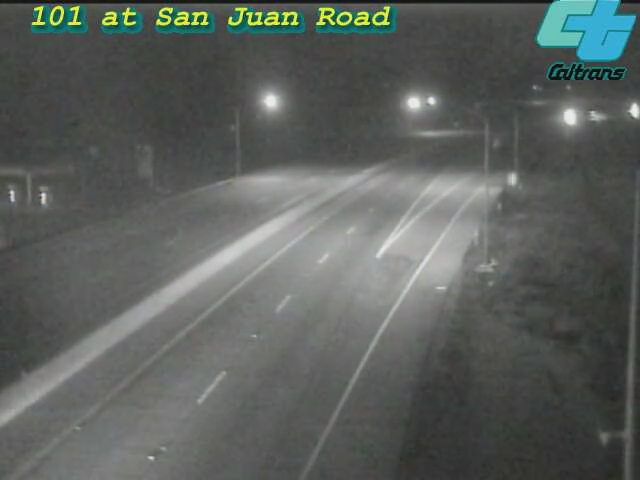vehicle: (572, 93, 622, 143), (545, 92, 595, 142), (609, 86, 640, 136)
